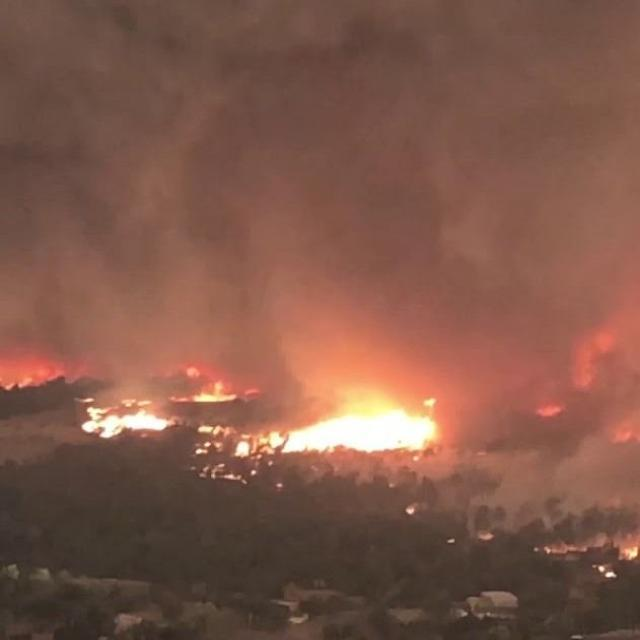Fire: (319, 391, 456, 464), (82, 400, 166, 440)
Smoke: (24, 32, 523, 406)
